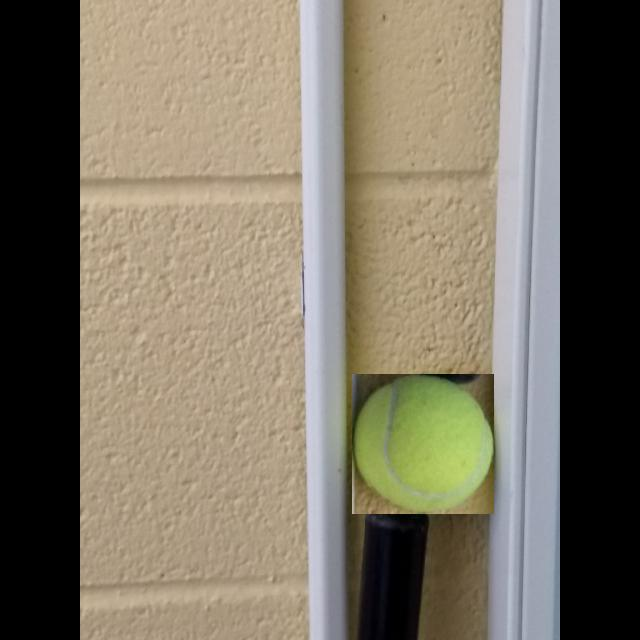tennis ball: (352, 374, 494, 514)
